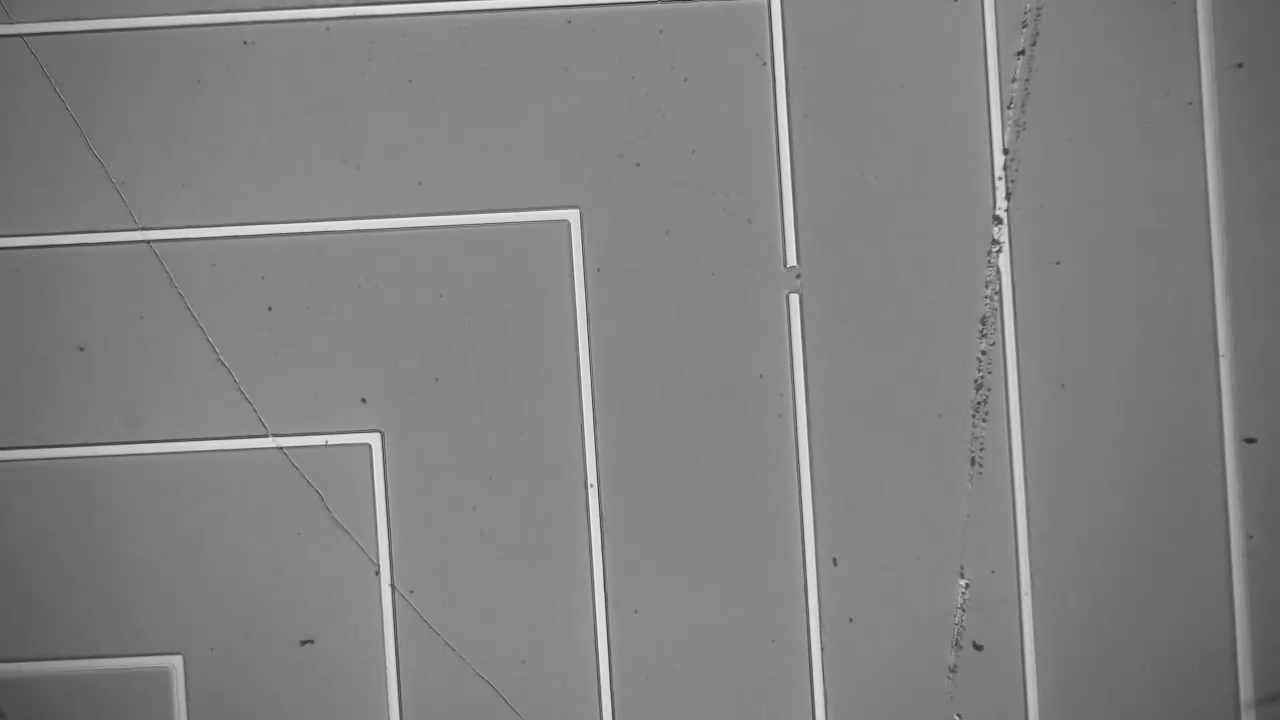open: (764, 247, 821, 322)
scratch: (5, 16, 519, 708), (932, 12, 1043, 707)
